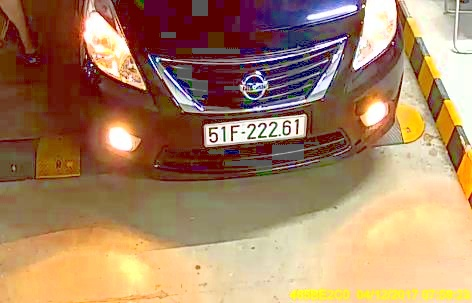plate: (202, 116, 306, 143)
